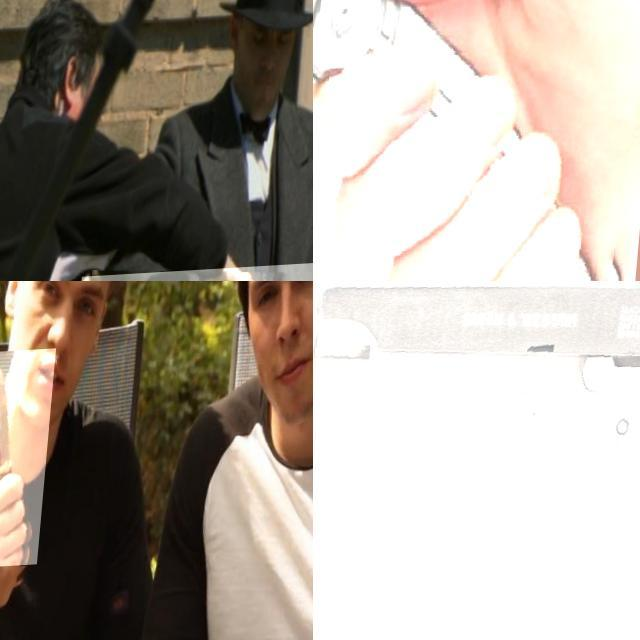-: (313, 0, 640, 281), (0, 350, 60, 570)
gun-knife-thesis - v11 Yolov5 augmented: (313, 281, 640, 640)
